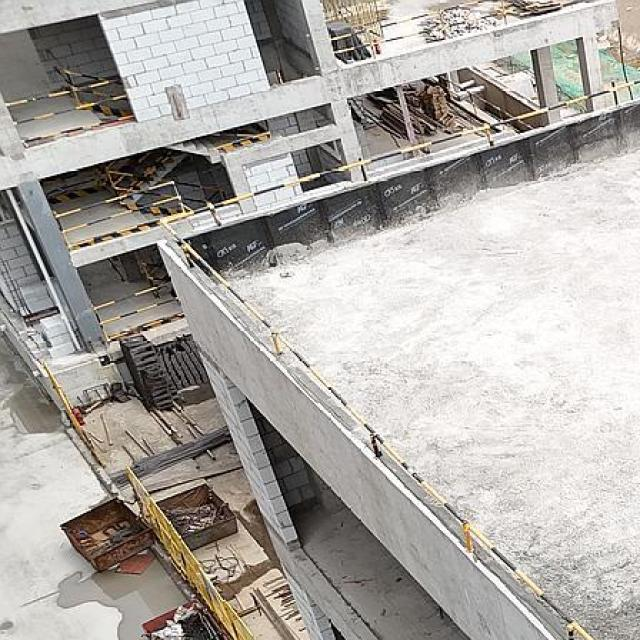edge_guardrail: (158, 78, 640, 640), (330, 0, 517, 60), (53, 180, 187, 251), (6, 75, 134, 145)
